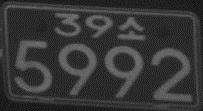2: (150, 47, 193, 102)
3: (53, 12, 81, 37)
5: (12, 39, 53, 94)
9: (57, 42, 98, 97), (103, 44, 144, 99), (84, 13, 114, 38)
소: (117, 15, 146, 41)
